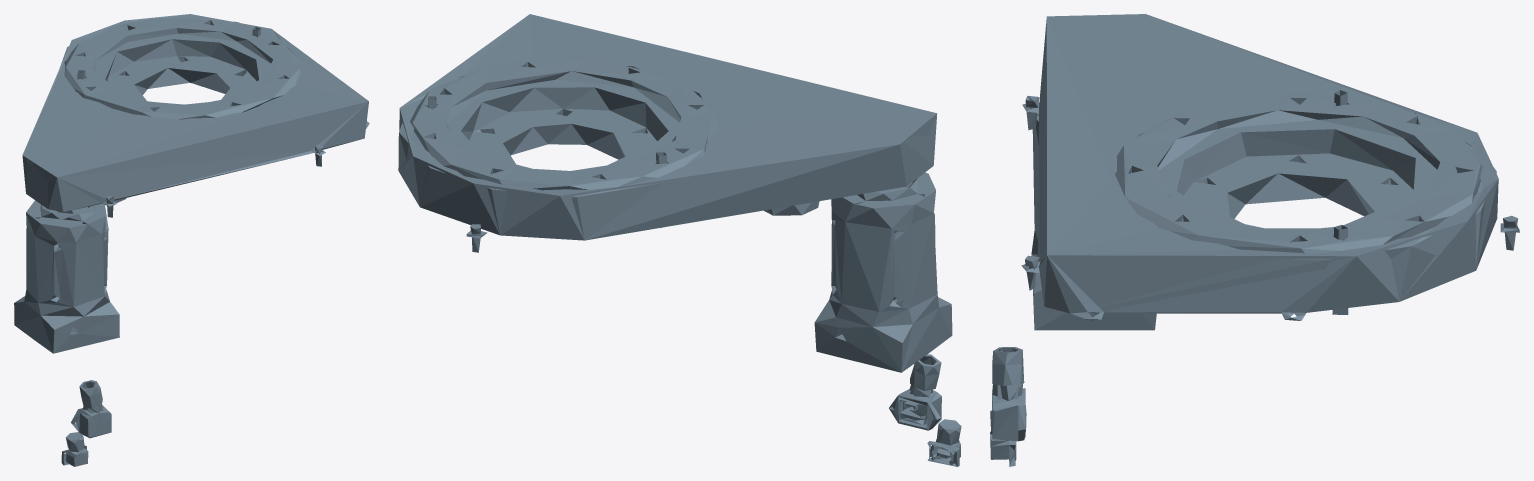
File: susp_RL.dae
3 renders of one model, left to right at view 1: azimuth 30°, elevation 25°; view 2: azimuth 150°, elevation 25°; view 3: azimuth 270°, elevation 25°, orthographic. The views are drawn at different scales.
Visible parts, largest first — view 1: node; view 2: node; view 3: node.
Boxes of the visible parts, x1,y1,x2,y2 form: node: (14, 14, 369, 466); node: (398, 14, 961, 466); node: (990, 14, 1519, 466).
Bounding box in the file's own units: 0.2882 × 0.2512 × 0.2357.
